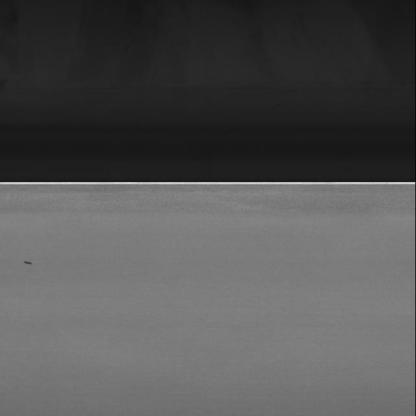inclusion: (18, 256, 44, 269)
